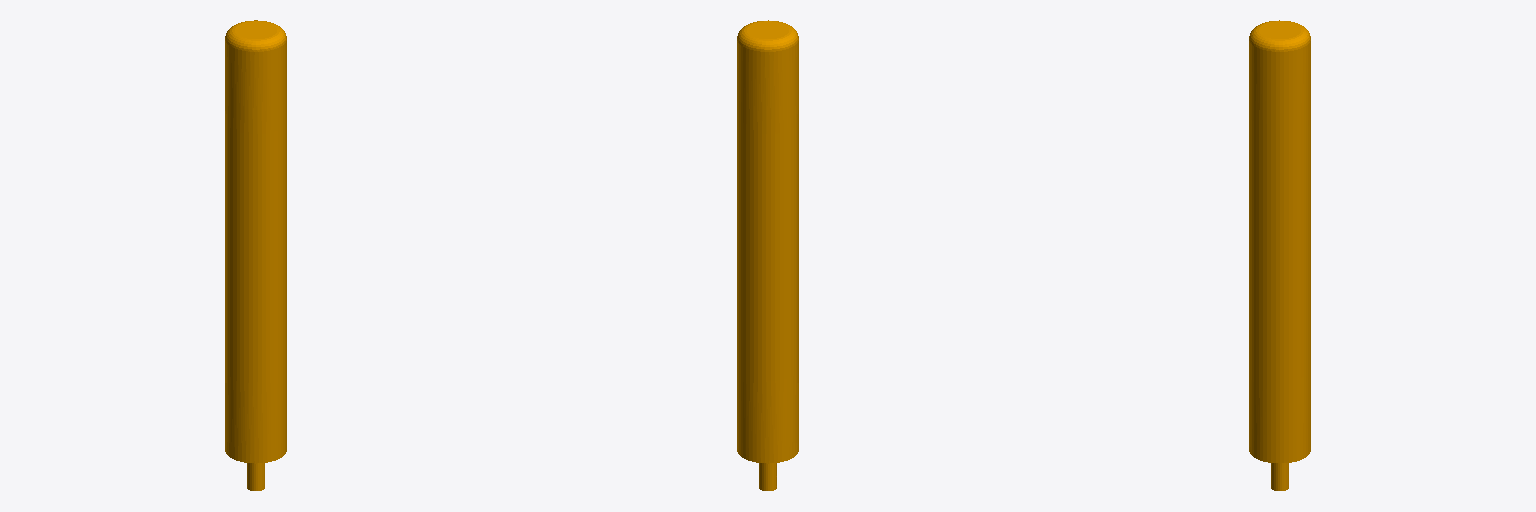
robot.urdf — flisat_leg:
<?xml version="0.0" ?>
<robot name="flisat_leg">

  <link name="flisat_leg_link">
    <inertial>
      <origin rpy="0 0 0" xyz="0 0 0"/>
       <mass value=".0"/>
       <inertia ixx="1" ixy="0" ixz="0" iyy="1" iyz="0" izz="1"/>
    </inertial>
    <visual>
      <origin rpy="0 0 0" xyz="0 0 0"/>
      <geometry>
        <mesh filename="package://stool_description/meshes/flisat_leg.stl" scale="0.001 0.001 0.001" />
      </geometry>
    </visual>
    <collision>
      <origin rpy="0 0 0" xyz="0 0 0"/>
      <geometry>
        <mesh filename="package://stool_description/meshes/flisat_leg.stl" scale="0.001 0.001 0.001" />
      </geometry>
    </collision>
  </link>

</robot>

--- What the picture shows (computed from the rendered views, not written in the file) ---
The picture shows the robot from 3 angles, left to right: view 1: azimuth 30°, elevation 25°; view 2: azimuth 150°, elevation 25°; view 3: azimuth 270°, elevation 25°; orthographic projection.
Robot: flisat_leg — 1 links, 0 joints (none); root link flisat_leg_link; default pose: all joints at 0.
Links seen in each view (by area): view 1: flisat_leg_link; view 2: flisat_leg_link; view 3: flisat_leg_link.
Link boxes in pixels (x1,y1,x2,y2): flisat_leg_link: (225, 20, 286, 490); flisat_leg_link: (737, 20, 798, 490); flisat_leg_link: (1249, 20, 1310, 490).
Size in the robot's own frame: 0.0342 by 0.0342 by 0.2796 metres.
Meshes: 1 distinct files referenced, 1 mesh visuals loaded (1 binary STL).